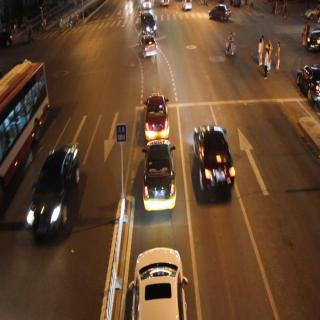BigCar: (0, 56, 47, 198)
Car: (26, 145, 89, 250), (131, 242, 188, 320), (192, 120, 235, 208), (139, 136, 179, 204), (142, 86, 170, 136), (298, 61, 320, 118), (139, 4, 162, 36), (304, 24, 320, 68), (139, 33, 159, 61), (208, 0, 230, 24)
